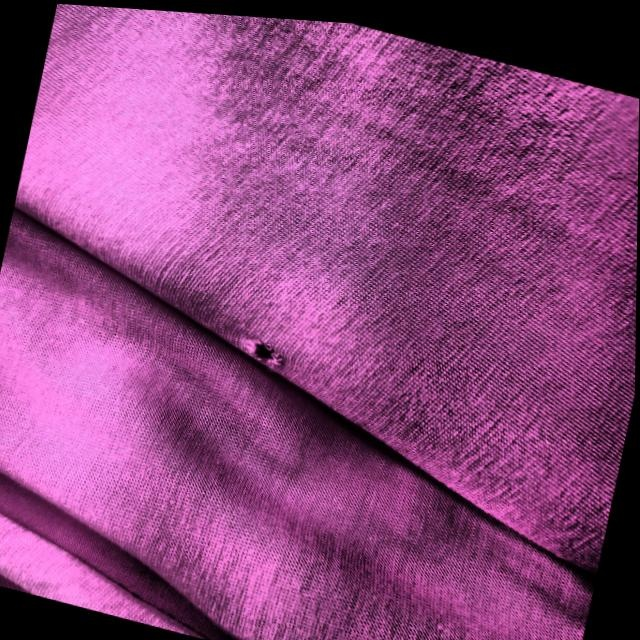Hole: (236, 328, 304, 390)
